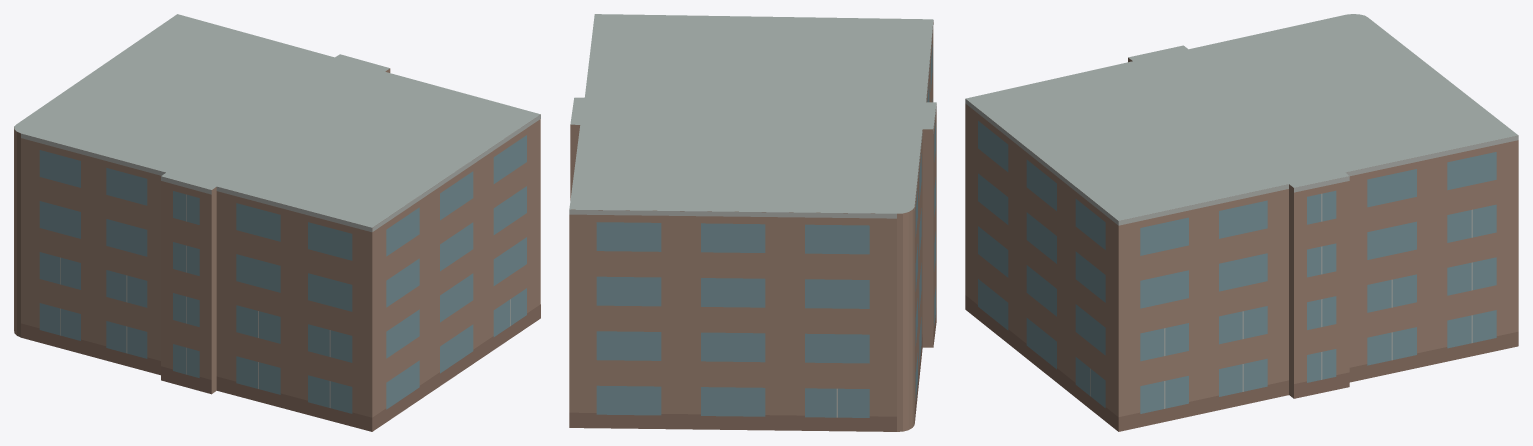
File: survey-upis-32752997.glb
3 renders of one model, left to right at view 1: azimuth 30°, elevation 25°; view 2: azimuth 150°, elevation 25°; view 3: azimuth 270°, elevation 25°, orthographic. The views are drawn at different scales.
Visible parts, largest first — view 1: survey-upis-32752997.tmp; view 2: survey-upis-32752997.tmp; view 3: survey-upis-32752997.tmp.
Part boxes in pixels (x1,y1,x2,y2): survey-upis-32752997.tmp: (14,14,540,431); survey-upis-32752997.tmp: (569,14,936,431); survey-upis-32752997.tmp: (965,14,1518,431).
Size of the model in its own units: 22.95 by 10.9 by 25.92.
